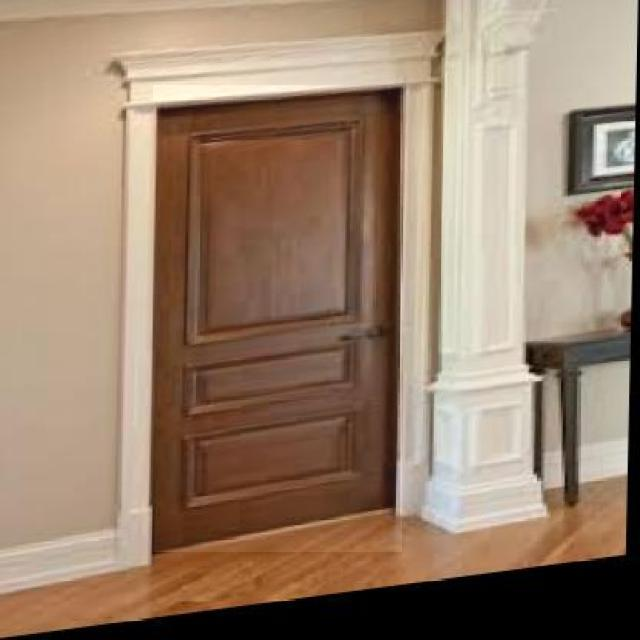door: (154, 86, 402, 552)
